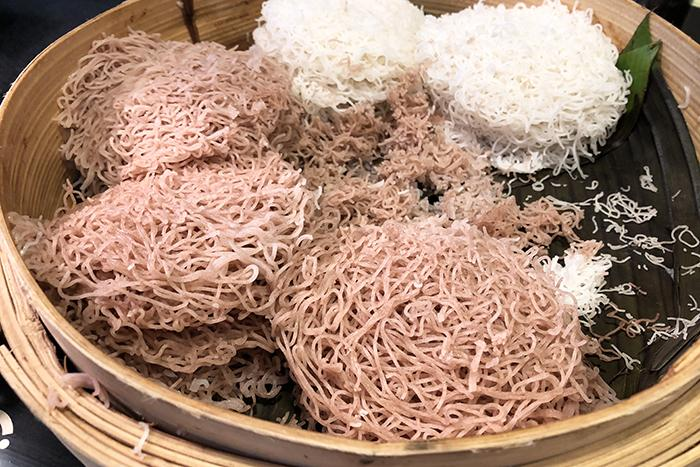String Hoppers: (18, 9, 680, 452)
